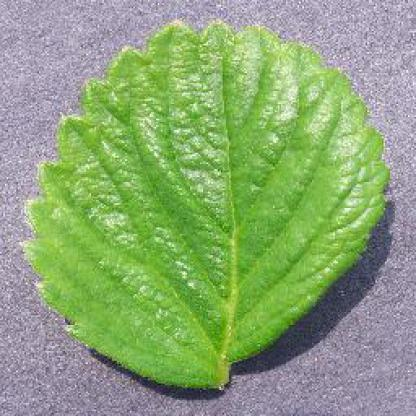healthy: (16, 10, 400, 398)
